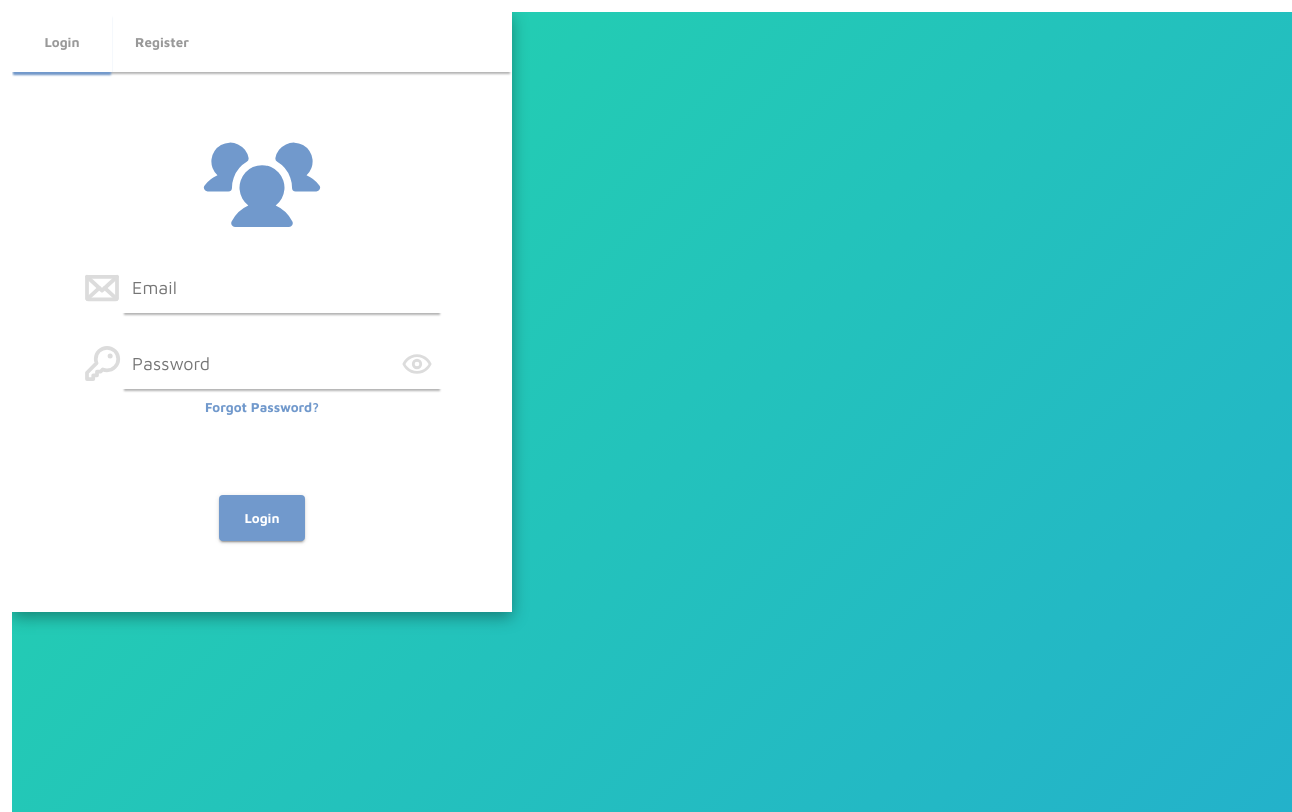
Test: Tests for Login page › Register should handle new user register
This screenshot has width=1292, height=812.
Click the button with test id "tab_register" showing "register".
click(162, 42)  # box [112,12,212,72]
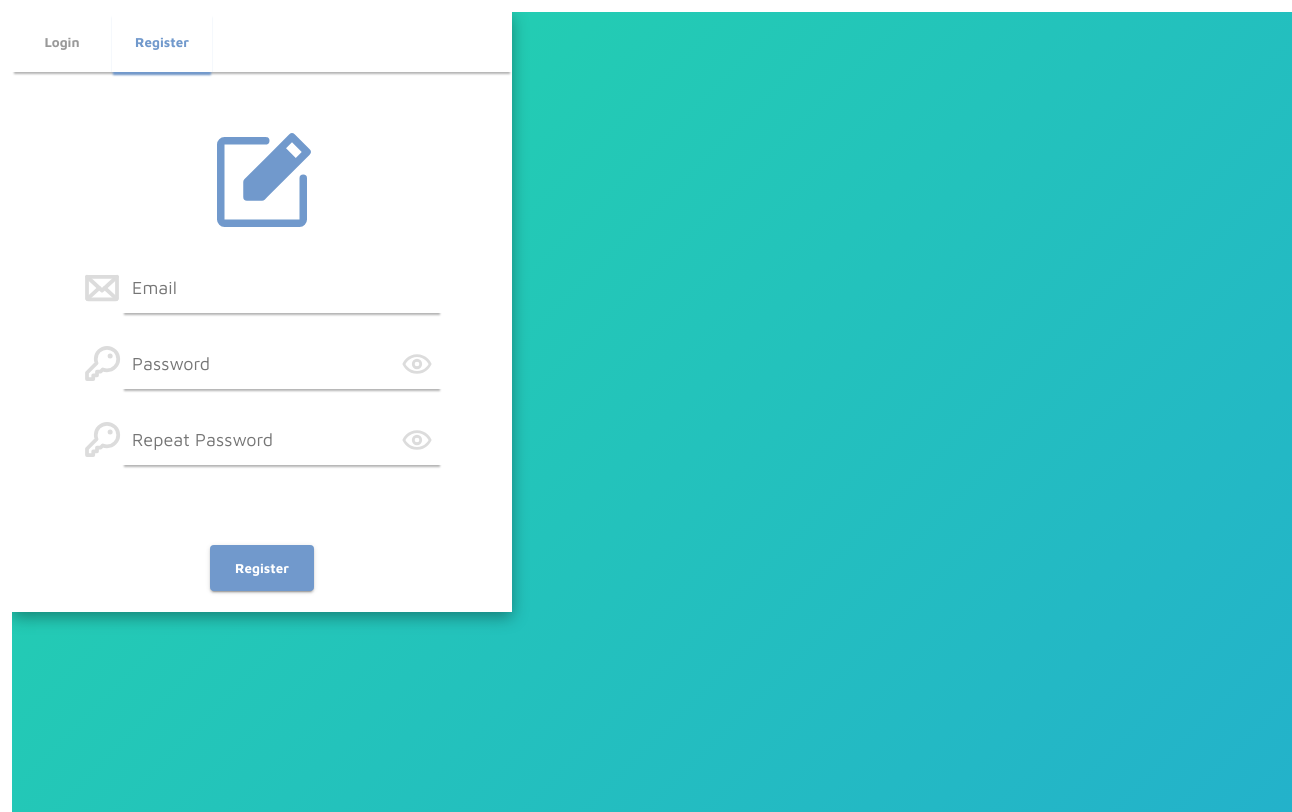
Type "test" into the password field with placeholder "Email".
click(282, 288); type("test")  # box [122,262,442,313]
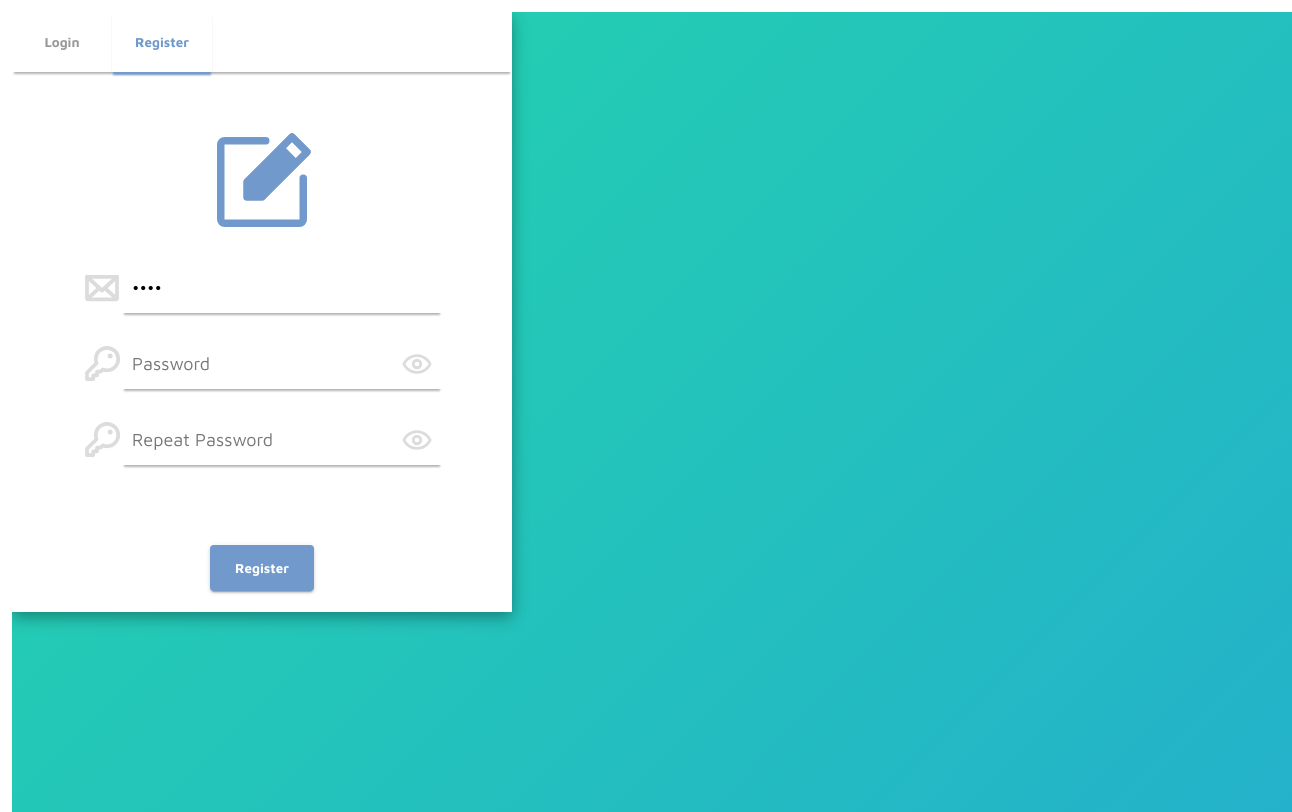
Type "test" into the password field with placeholder "Password".
click(282, 364); type("test")  # box [122,338,442,389]
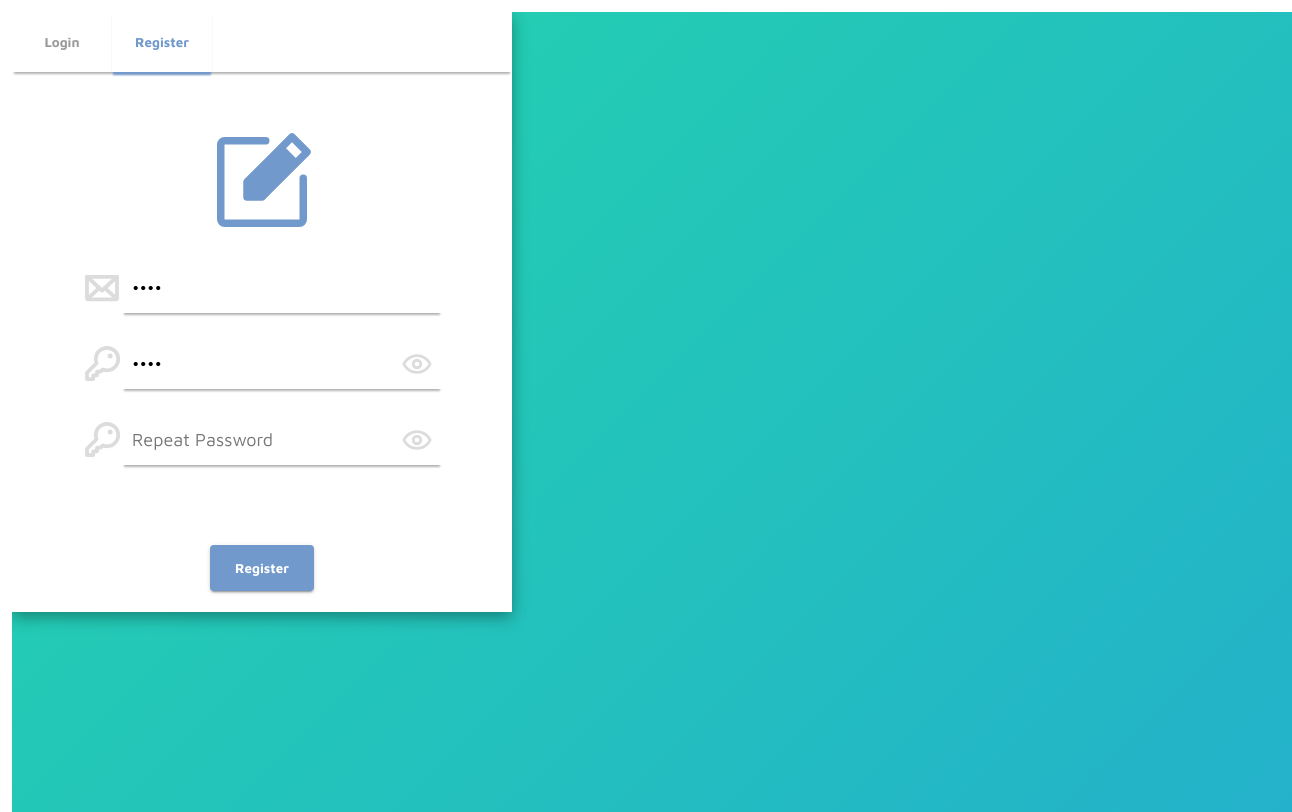
Type "test" into the password field with placeholder "Repeat Password".
click(282, 440); type("test")  # box [122,414,442,465]
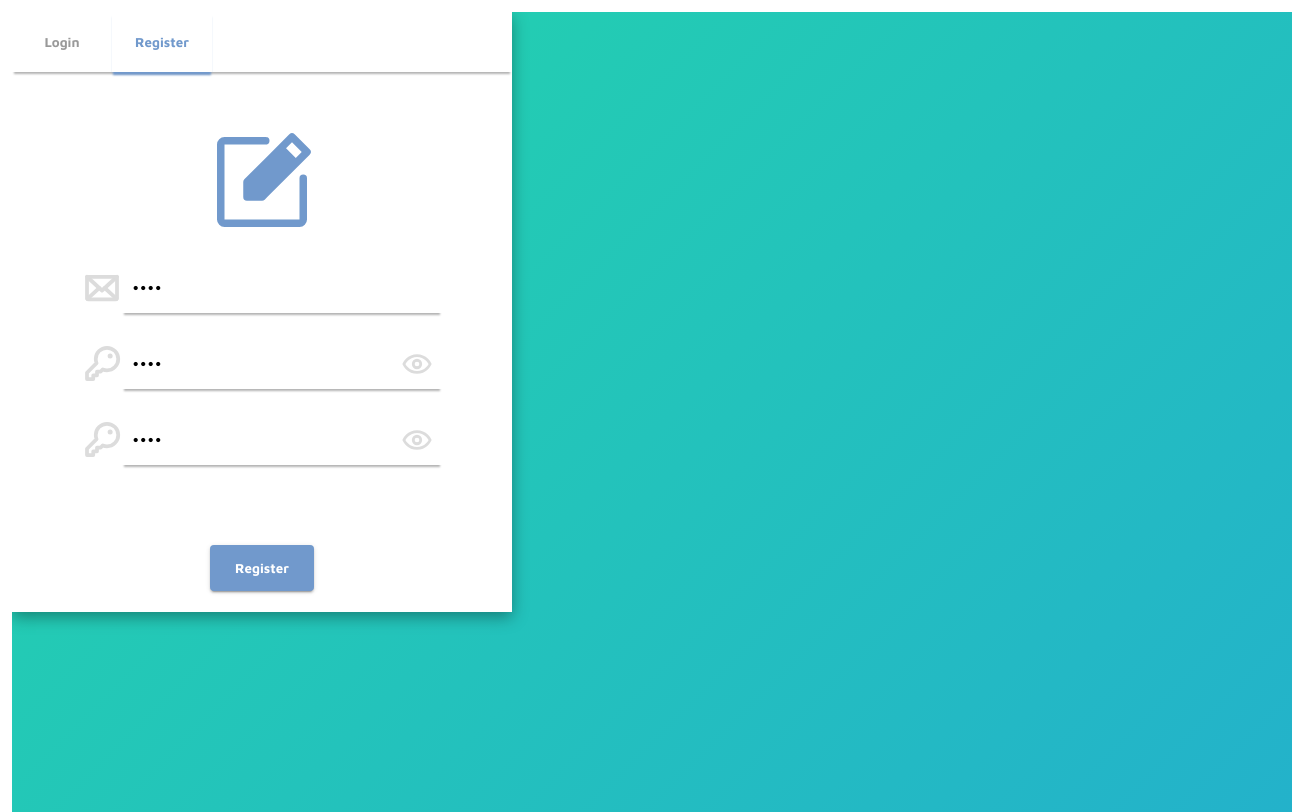
Click the button with test id "login-button" showing "Register".
click(262, 568)  # box [210,545,314,591]
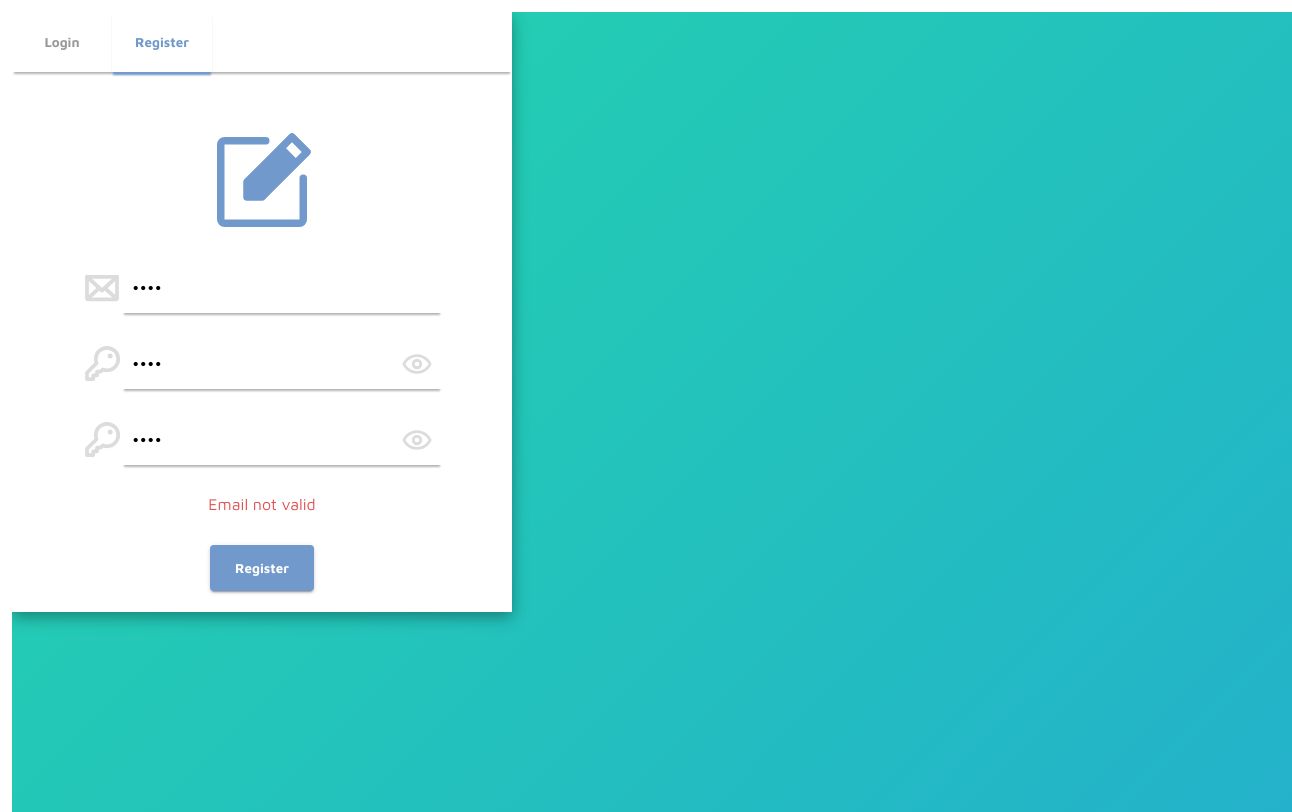
Expected: the text with test id "error" reads "Email not valid", [208,495,316,513]
